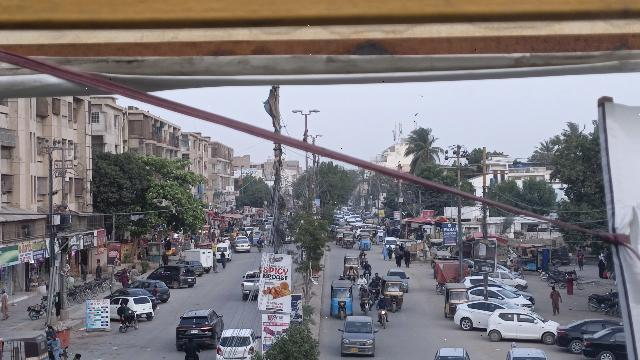Bike: (117, 315, 140, 335), (47, 345, 70, 360), (359, 296, 373, 315), (378, 308, 390, 329)
Car: (486, 308, 558, 344), (554, 317, 616, 351), (174, 308, 223, 351), (454, 298, 513, 332), (577, 321, 627, 360), (338, 314, 378, 358), (216, 328, 260, 360), (151, 264, 198, 289), (140, 279, 172, 302), (128, 296, 155, 322), (240, 268, 258, 302)
Person: (548, 285, 563, 317), (0, 288, 10, 322), (49, 334, 62, 352), (119, 268, 130, 289), (376, 294, 389, 310), (211, 253, 220, 275), (117, 301, 126, 320), (123, 301, 133, 318), (359, 286, 372, 299), (129, 265, 137, 283)
Rickshaw: (327, 279, 354, 319), (440, 282, 469, 319), (380, 275, 405, 314), (343, 255, 361, 267)
Truck: (184, 248, 213, 272)
